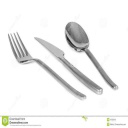Fork: (5, 29, 89, 103)
